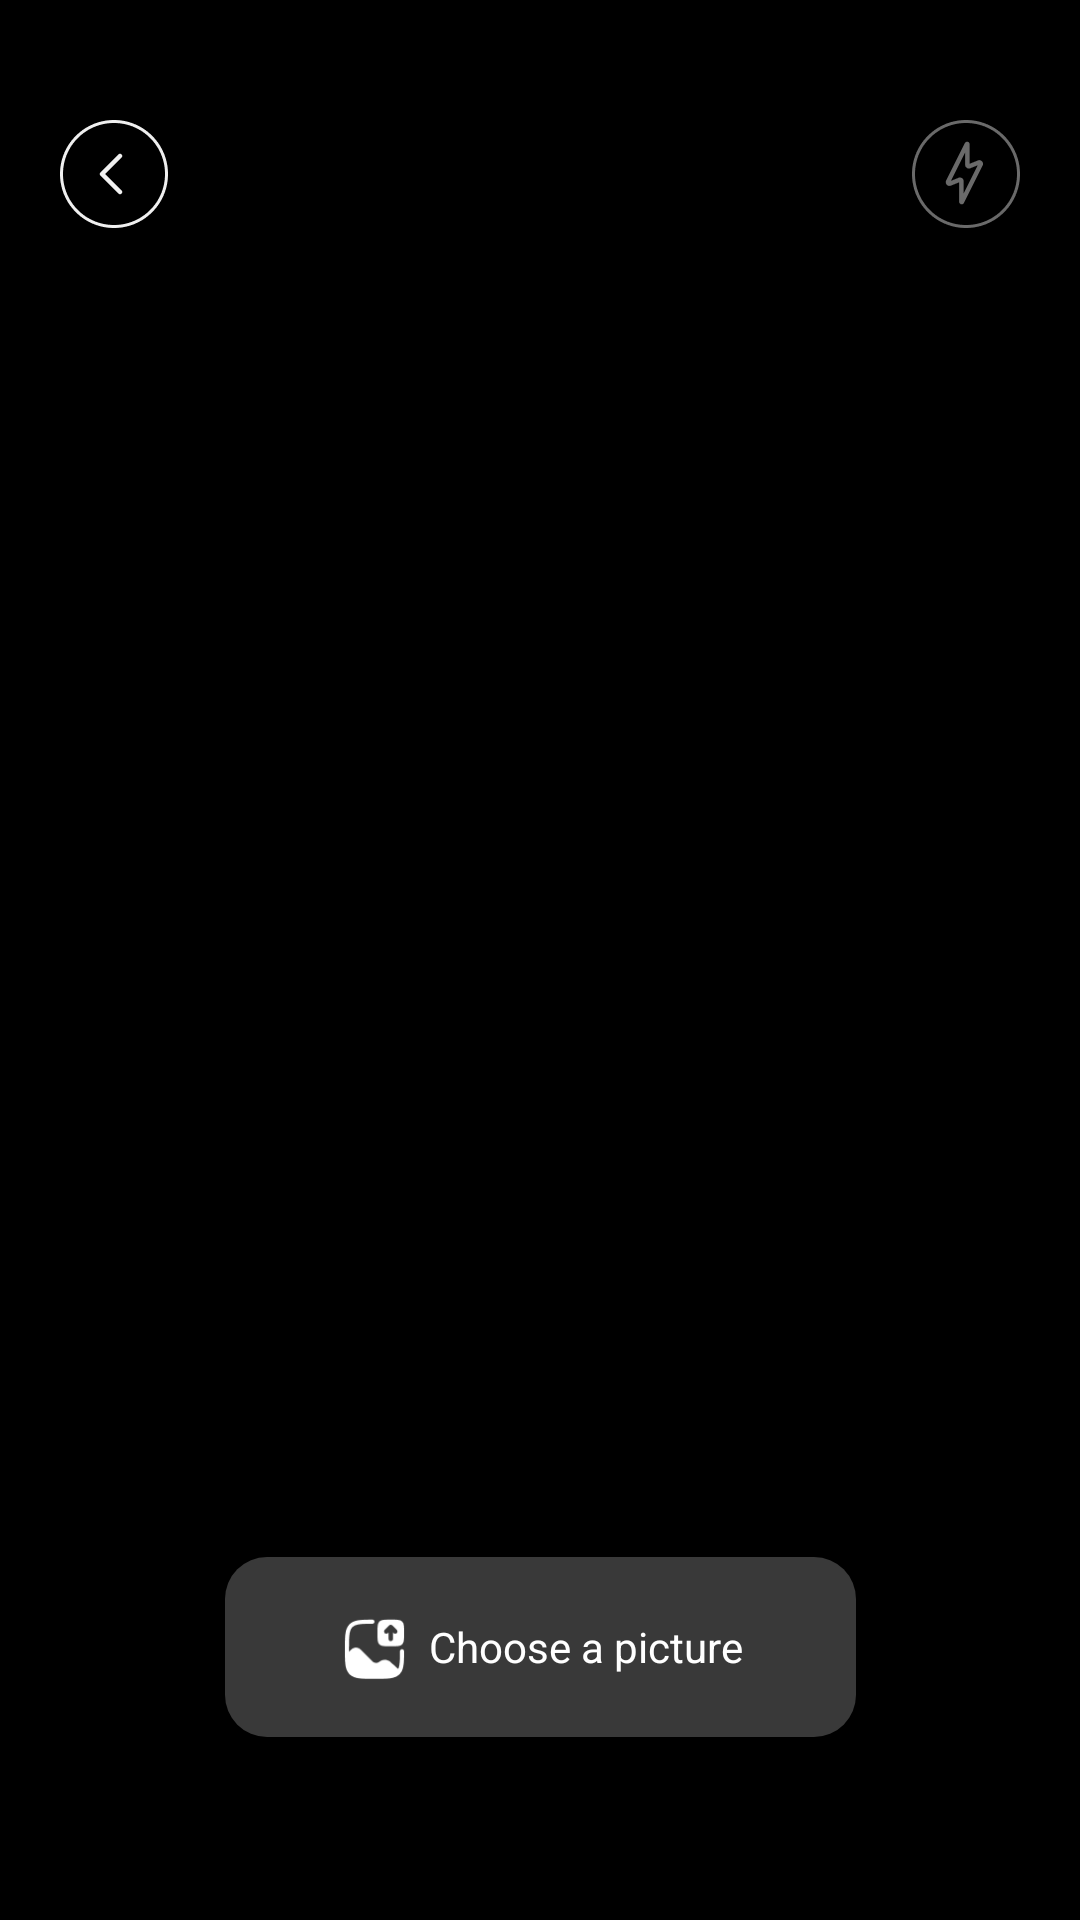

Named icons in this screenshot (1080*1920) and their centers, (x,y):
flash: (966,174)
scan back: (114,174)
